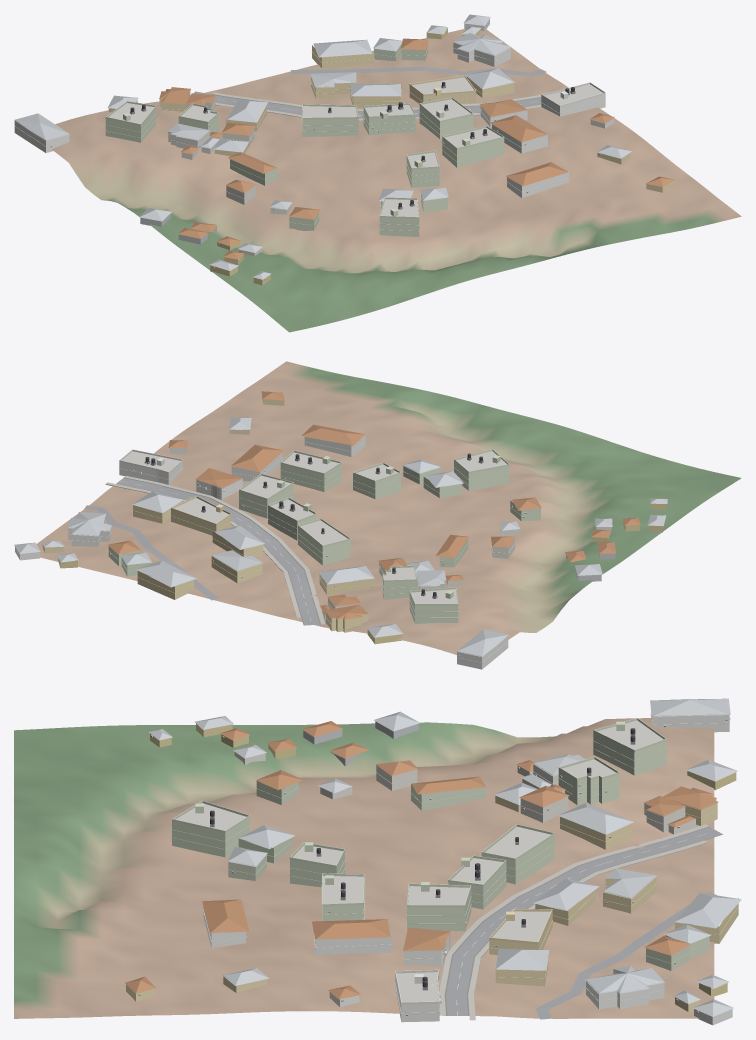
3 views of the same model, one above another, from view 1: azimuth 30°, elevation 25°; view 2: azimuth 150°, elevation 25°; view 3: azimuth 270°, elevation 25° (orthographic). The views are drawn at different scales.
Visible parts, largest first — view 1: Terrain-col, Buildings-col, Details, Roads-col, Sidewalks-col; view 2: Terrain-col, Buildings-col, Details, Roads-col, Sidewalks-col; view 3: Terrain-col, Buildings-col, Details, Roads-col, Sidewalks-col.
Part boxes in pixels (bbox=[...]): Terrain-col: bbox=[51, 29, 741, 332]; Buildings-col: bbox=[14, 14, 675, 285]; Details: bbox=[14, 25, 605, 280]; Roads-col: bbox=[194, 67, 546, 118]; Sidewalks-col: bbox=[212, 92, 541, 120]; Terrain-col: bbox=[36, 361, 741, 654]; Buildings-col: bbox=[14, 391, 667, 669]; Details: bbox=[63, 394, 612, 662]; Roads-col: bbox=[84, 478, 320, 625]; Sidewalks-col: bbox=[105, 476, 325, 624]; Terrain-col: bbox=[14, 718, 714, 1018]; Buildings-col: bbox=[125, 698, 741, 1025]; Details: bbox=[138, 709, 738, 1015]; Roads-col: bbox=[444, 826, 722, 1019]; Sidewalks-col: bbox=[439, 824, 709, 1020].
Size of the model in its own units: 266 by 23.05 by 266.
